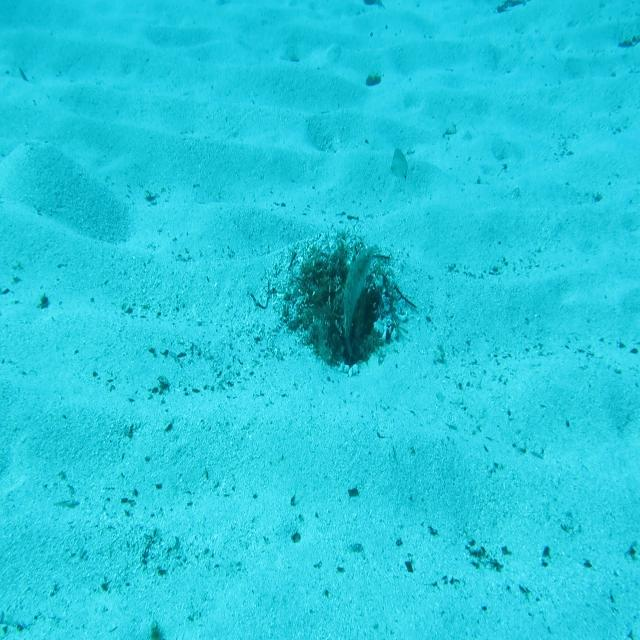H_UP: (342, 241, 380, 372)
female: (384, 143, 416, 197)
nest: (278, 236, 405, 381)
